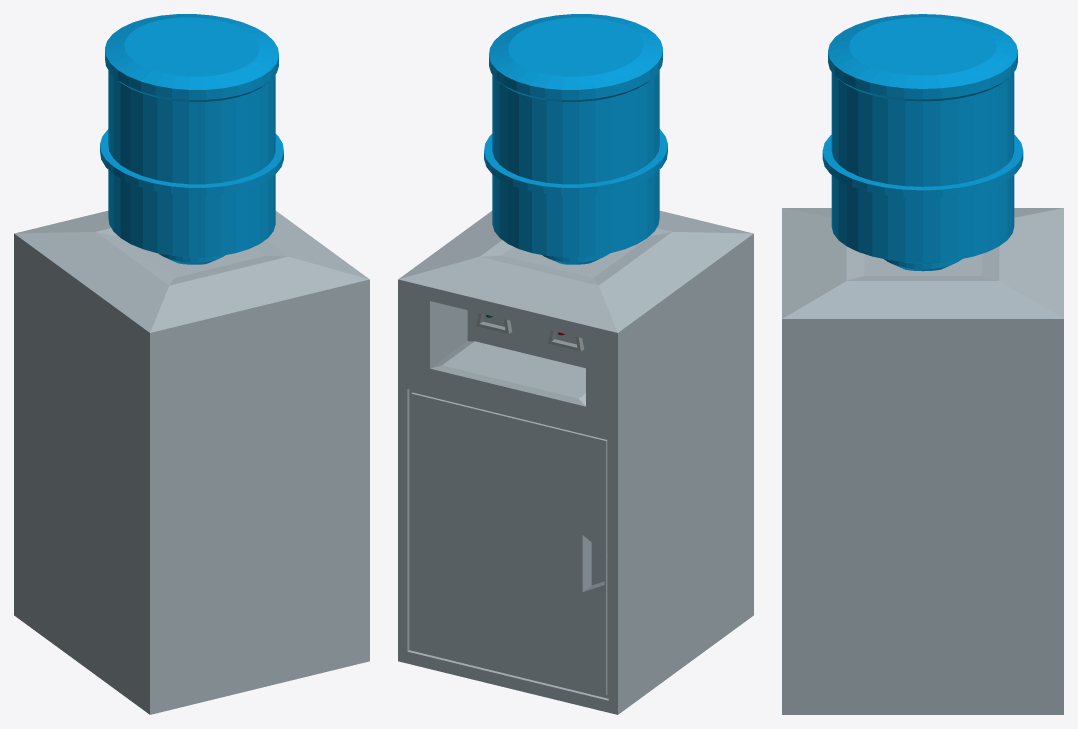
File: UtilityRoom_WaterDrink.fbx
3 views of the same model, side by side, from view 1: azimuth 30°, elevation 25°; view 2: azimuth 150°, elevation 25°; view 3: azimuth 270°, elevation 25° (orthographic). The views are drawn at different scales.
Visible parts, largest first — view 1: WaterDrink; view 2: WaterDrink; view 3: WaterDrink.
Boxes of the visible parts, x1,y1,x2,y2 form: WaterDrink: [14, 14, 369, 714]; WaterDrink: [398, 14, 753, 714]; WaterDrink: [782, 14, 1063, 714].
Size of the model in its own units: 0.7 by 1.8 by 0.75.
